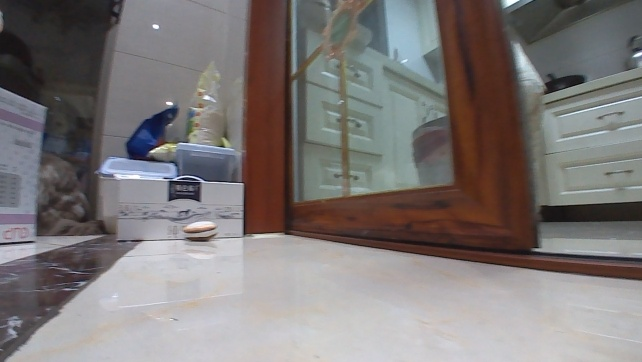cupboard: (533, 65, 641, 220)
